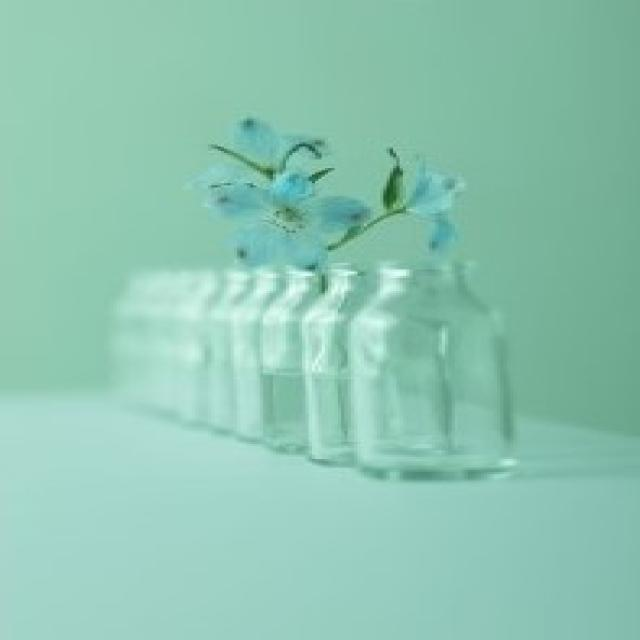electronic: (354, 258, 521, 488)
